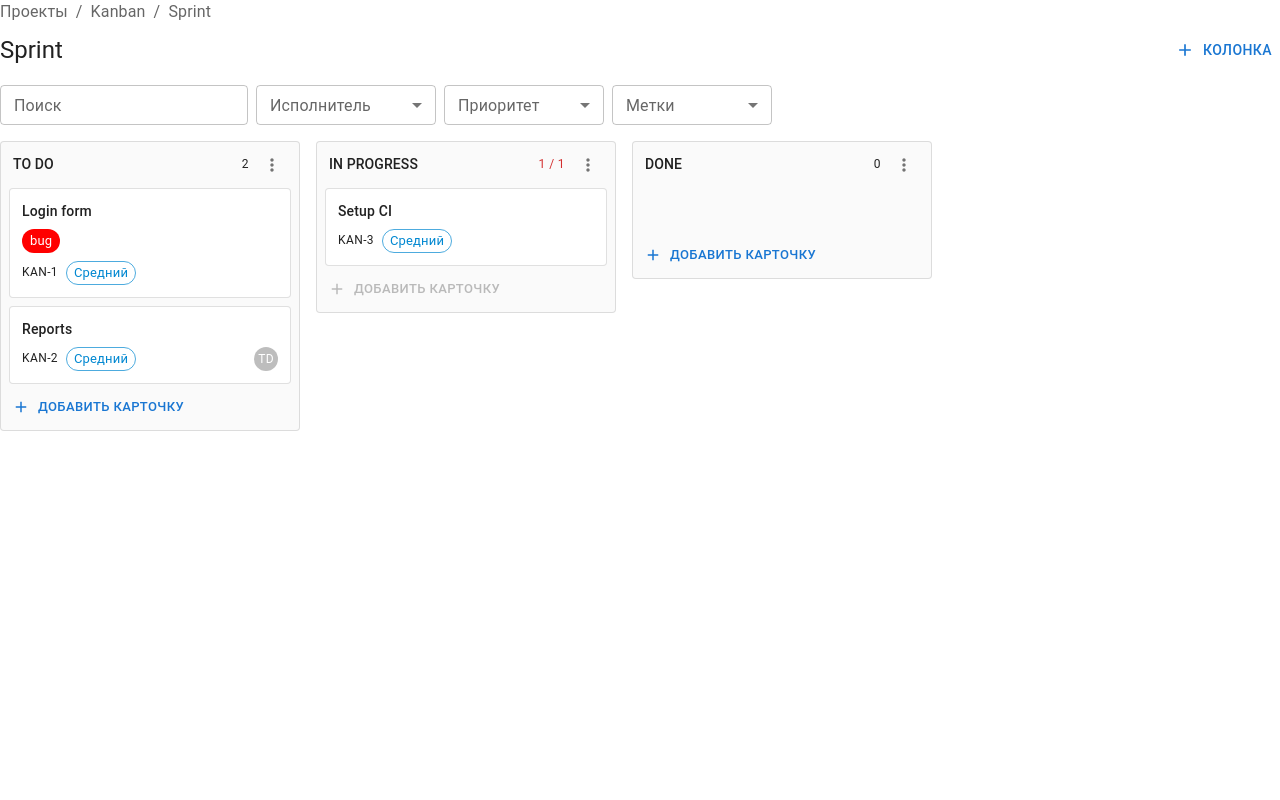
CardDialog › TC-05: не сохраняет пустое название
Click the button "Login form bug KAN-1 Средний" at [57, 210], box [9,188,291,298]
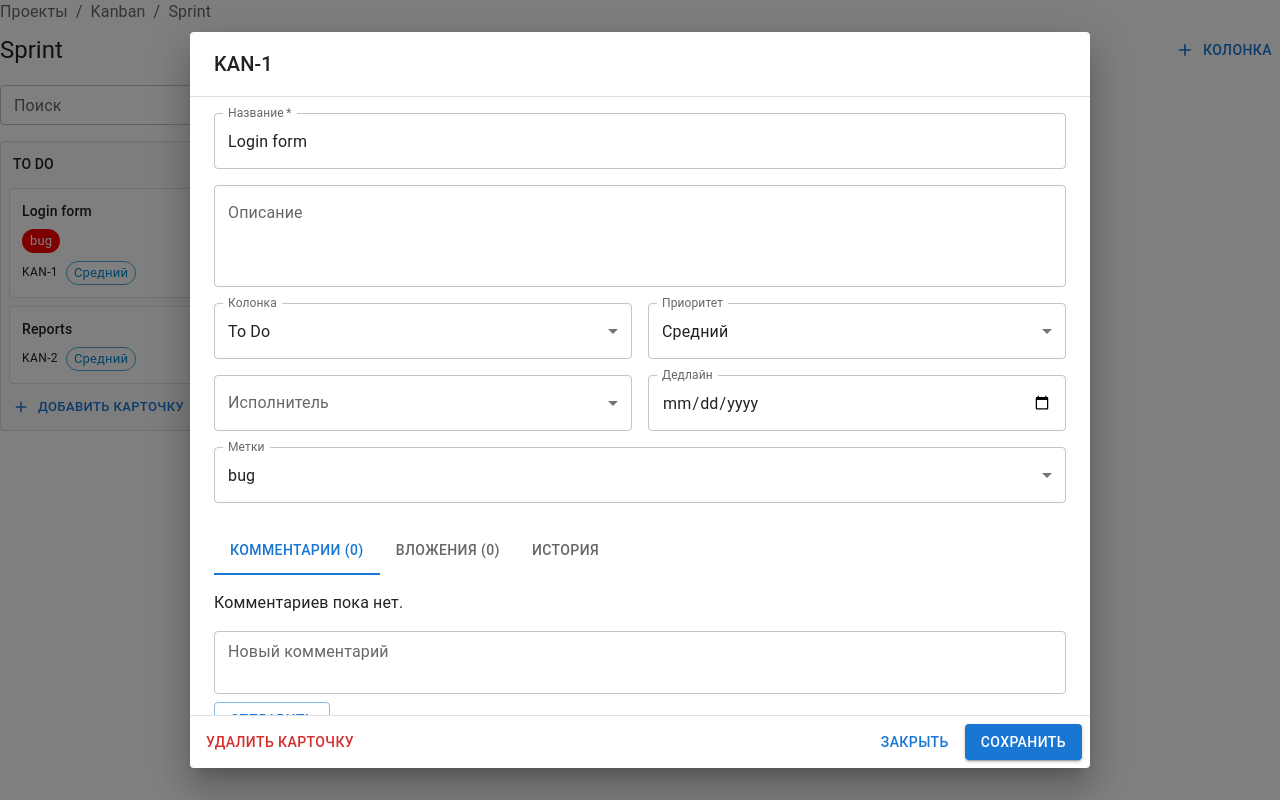
Clear the field labelled "Название *" at [640, 141], box [214,113,1066,169]
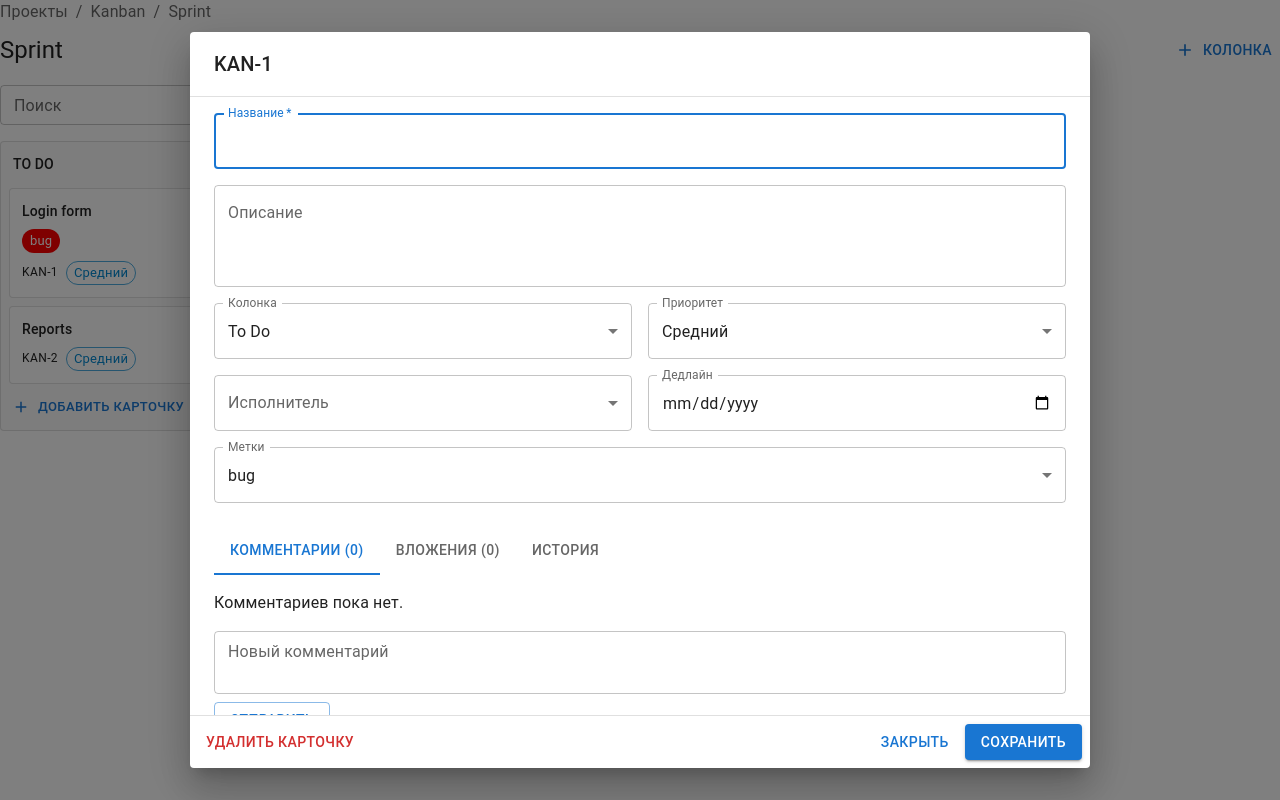
Click the button "Сохранить" at [1023, 742], box [965,724,1082,760]
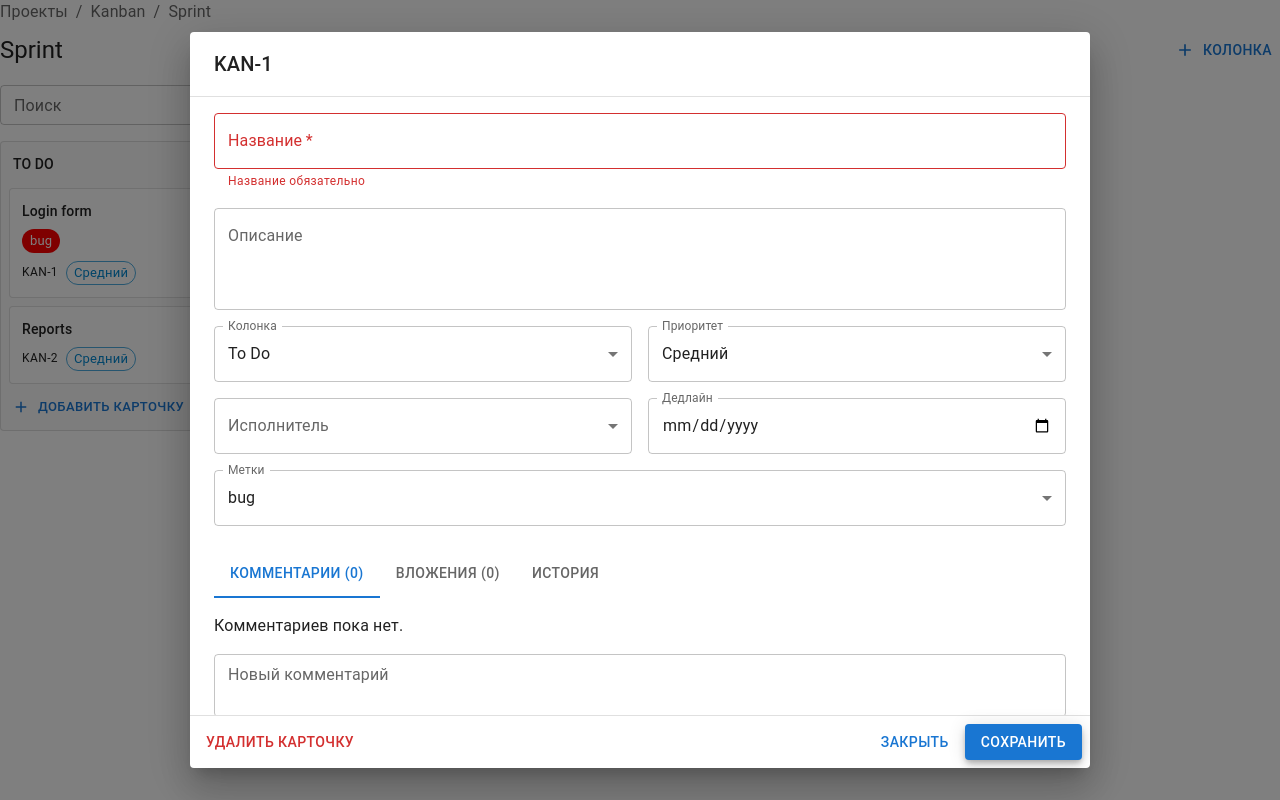
Expected: the text "Название обязательно" is shown, [228,174,365,188]
